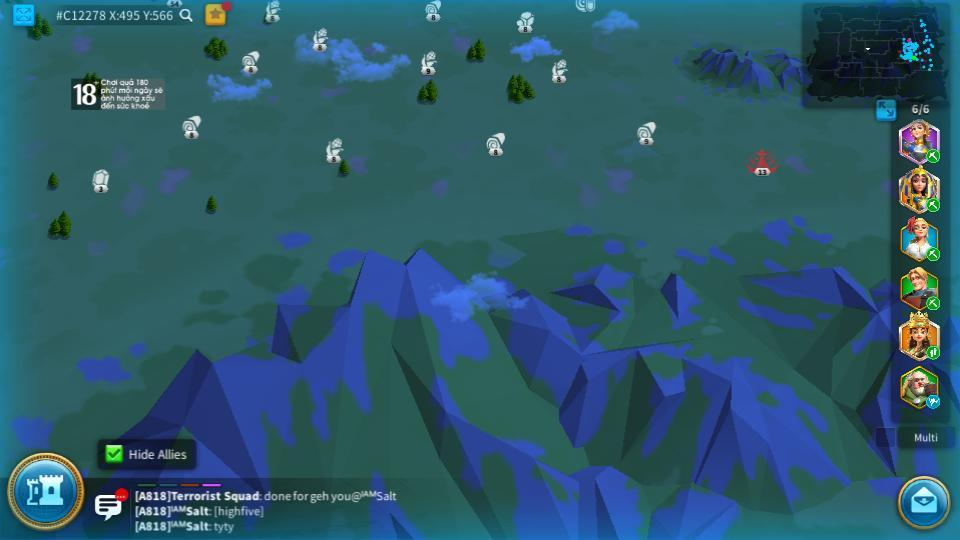gem-z-out: (90, 169, 111, 191)
march_idle: (925, 394, 942, 408)
march_marching: (924, 196, 939, 211), (925, 345, 941, 359), (925, 150, 941, 162), (925, 297, 942, 308)
